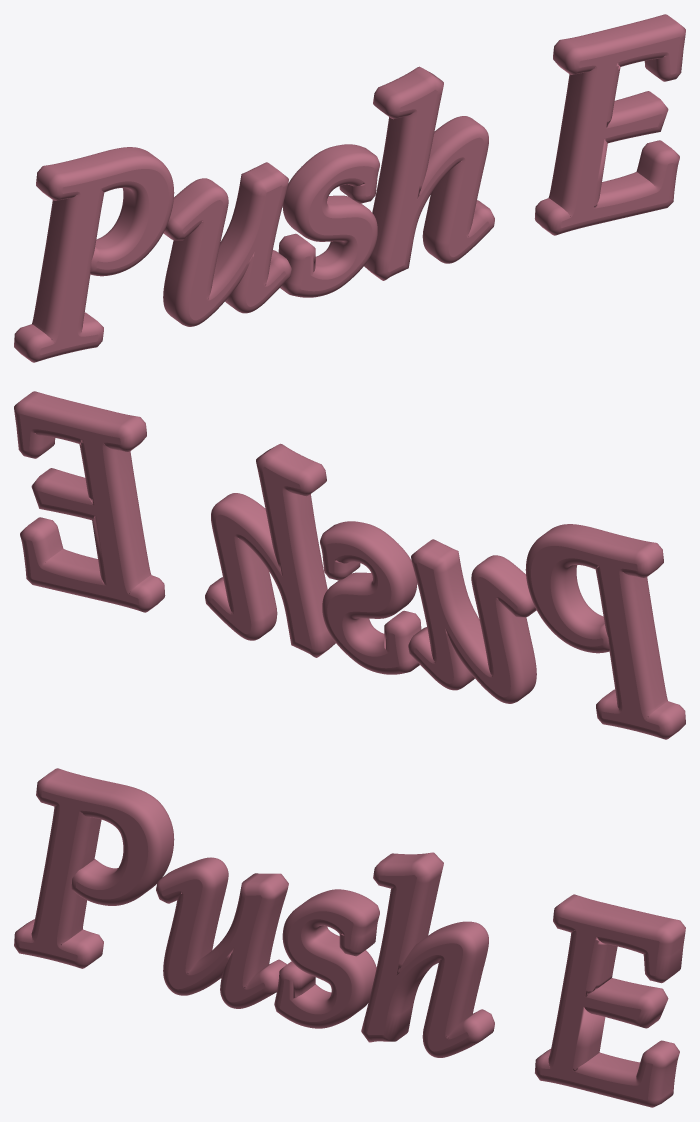
The model's file is PushE.obj.
The picture shows the model from 3 angles, top to bottom: view 1: azimuth 30°, elevation 25°; view 2: azimuth 150°, elevation 25°; view 3: azimuth 330°, elevation 25°; orthographic projection.
Parts seen in each view (by area): view 1: テキスト.012; view 2: テキスト.012; view 3: テキスト.012.
Part boxes in pixels (x1,y1,x2,y2): テキスト.012: (14, 14, 685, 362); テキスト.012: (14, 391, 685, 739); テキスト.012: (14, 768, 685, 1107).
Bounding box in the file's own units: 2.19 × 0.614 × 0.12.
